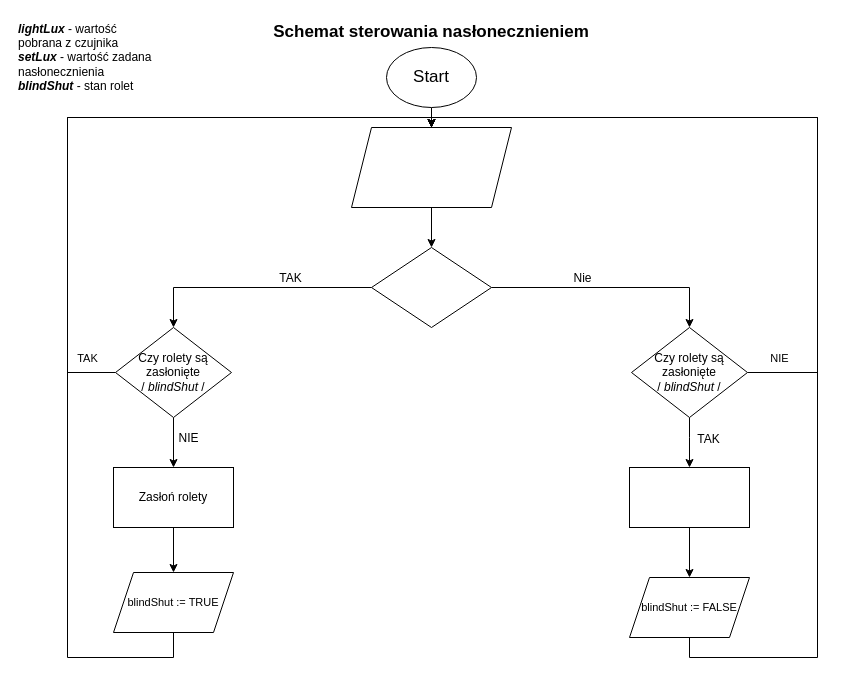
Some shapes in this 843 by 683 pixel diagram are drawn without their labels. Here are the shapes that lost their labels. From the top down, the centre of each, then its label:
At pixel 431 167: "Pobranie danych z czujnika nasłonecznienia / lightLux /".
At pixel 431 287: "lightLux > setLux".
At pixel 689 497: "Odsłoń rolety".
